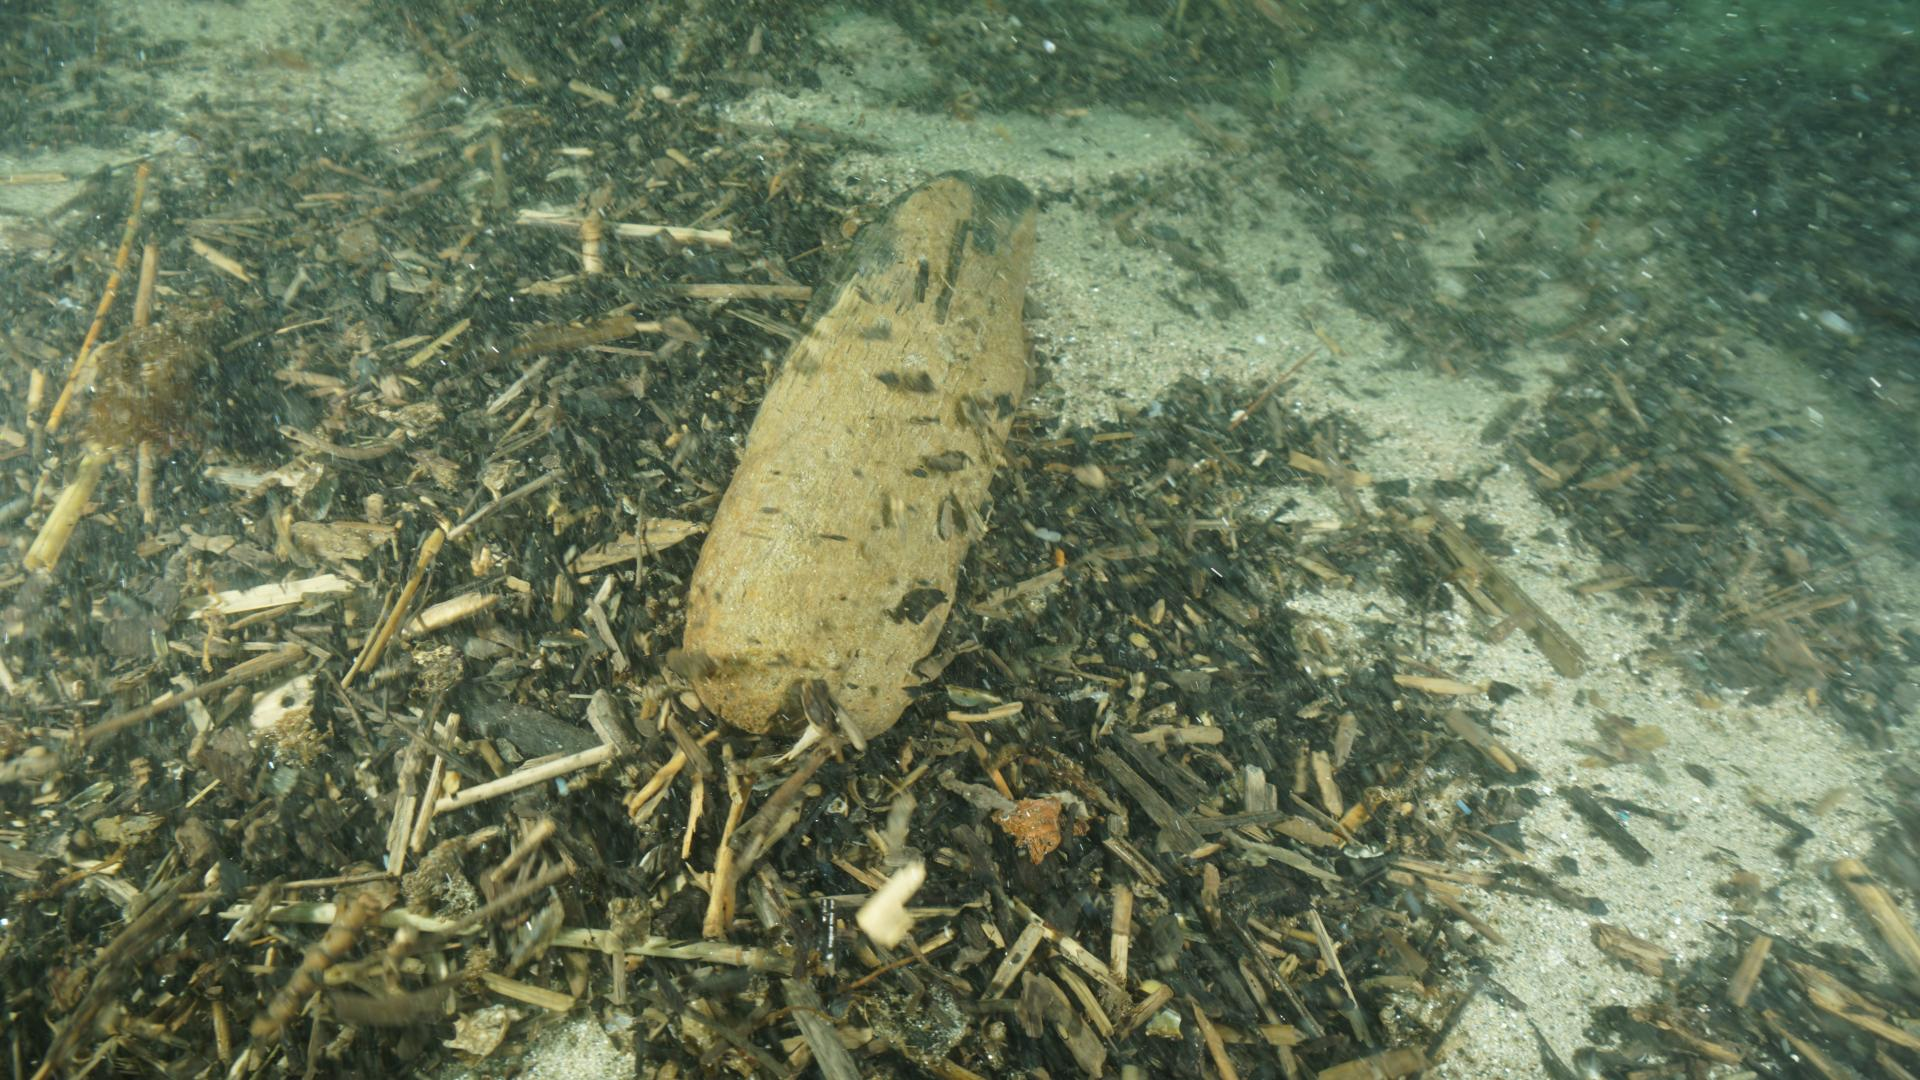wood: (679, 166, 1048, 745)
